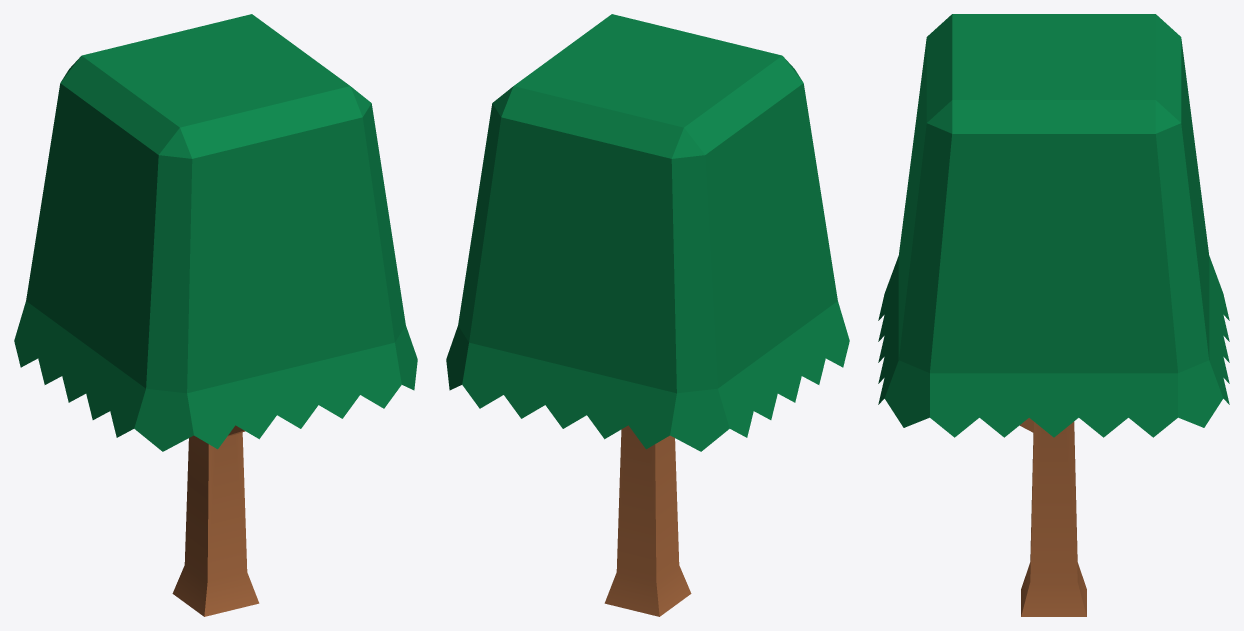
File: tree.glb
3 renders of one model, left to right at view 1: azimuth 30°, elevation 25°; view 2: azimuth 150°, elevation 25°; view 3: azimuth 270°, elevation 25°, orthographic. The views are drawn at different scales.
Visible parts, largest first — view 1: tree; view 2: tree; view 3: tree.
Part boxes in pixels (x1,y1,x2,y2): tree: (14,14,417,616); tree: (446,14,849,616); tree: (878,14,1229,616).
Size of the model in its own units: 1.13 by 1.94 by 1.13.
